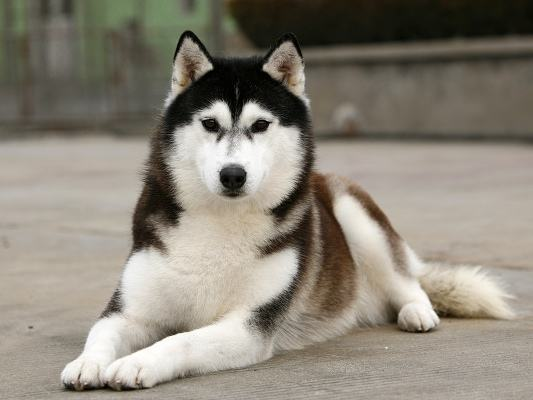dog: (60, 30, 515, 391)
